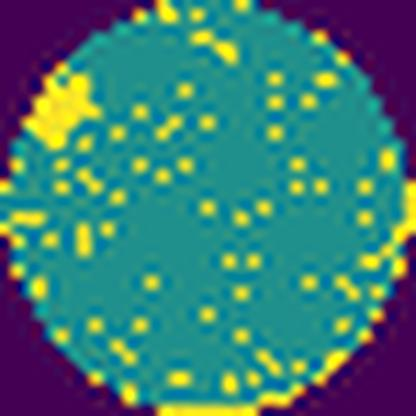Edge-Loc: (22, 55, 107, 154), (351, 179, 415, 280)
